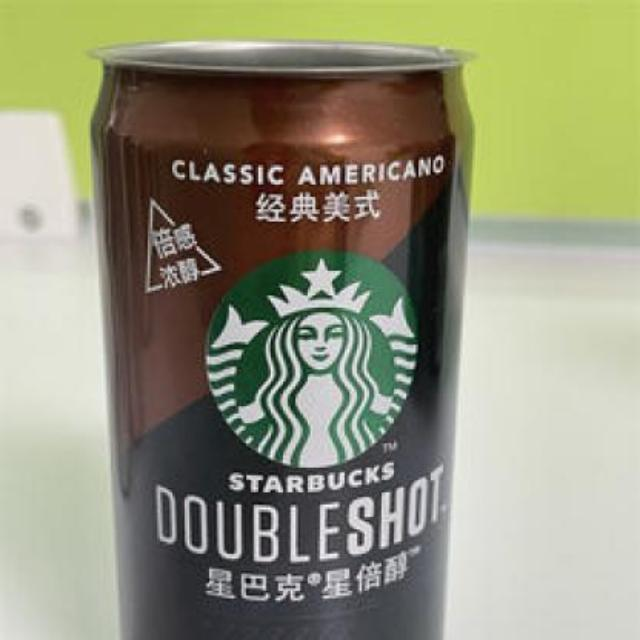metal: (91, 42, 468, 637)
